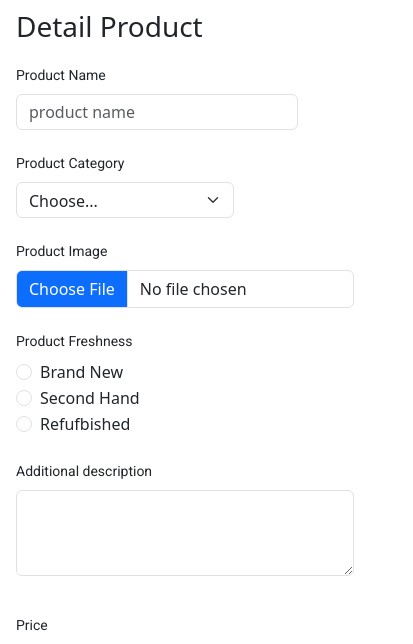
Test: FormProduct › input form validation must be correct › there must be no these characters in the product name @
In the field labelled "Product Name": (157, 112) [16,94,298,130], type "invalid@name"
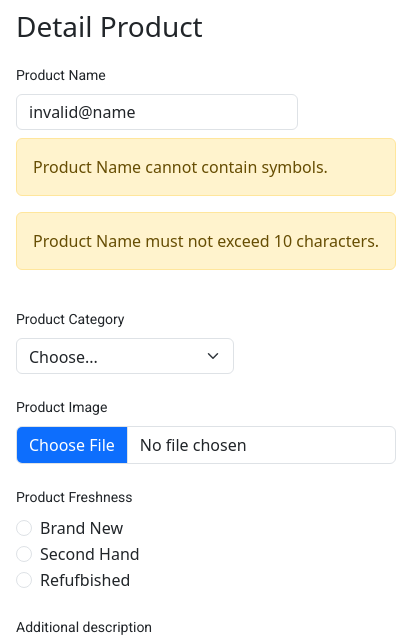
Now the text "Product Name cannot contain symbols." is shown, box [16,138,396,196]
